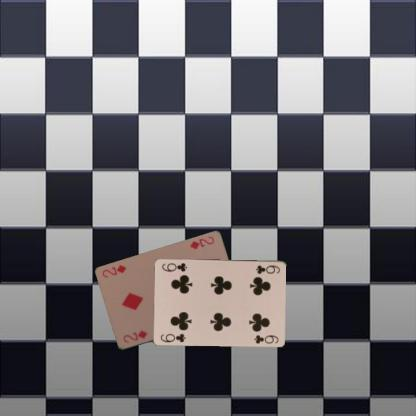2d: (187, 234, 215, 251), (121, 328, 148, 344)
6c: (253, 262, 281, 275), (158, 331, 188, 343)
